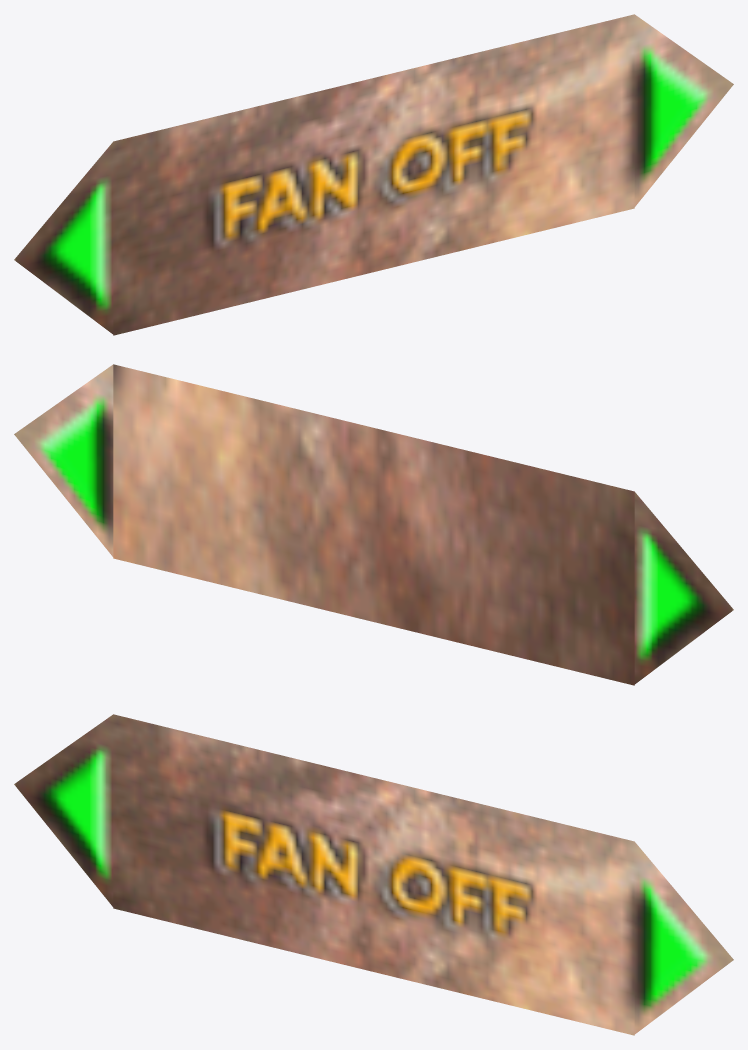
Rendered from SIGN_FAN05.glb.
3 renders of one model, top to bottom at view 1: azimuth 30°, elevation 25°; view 2: azimuth 150°, elevation 25°; view 3: azimuth 330°, elevation 25°, orthographic.
Visible parts, largest first — view 1: SIGN_FAN05; view 2: SIGN_FAN05; view 3: SIGN_FAN05.
Boxes of the visible parts, x1=… form: SIGN_FAN05: x1=14, y1=14, x2=733, y2=335; SIGN_FAN05: x1=14, y1=364, x2=733, y2=685; SIGN_FAN05: x1=14, y1=714, x2=733, y2=1035.
Size of the model in its own units: 395 by 102 by 0.
Materials: 1 (1 with a texture image).
